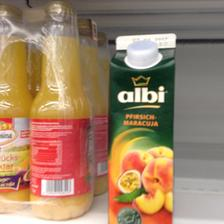Saft: (28, 0, 92, 220), (107, 32, 176, 224)
